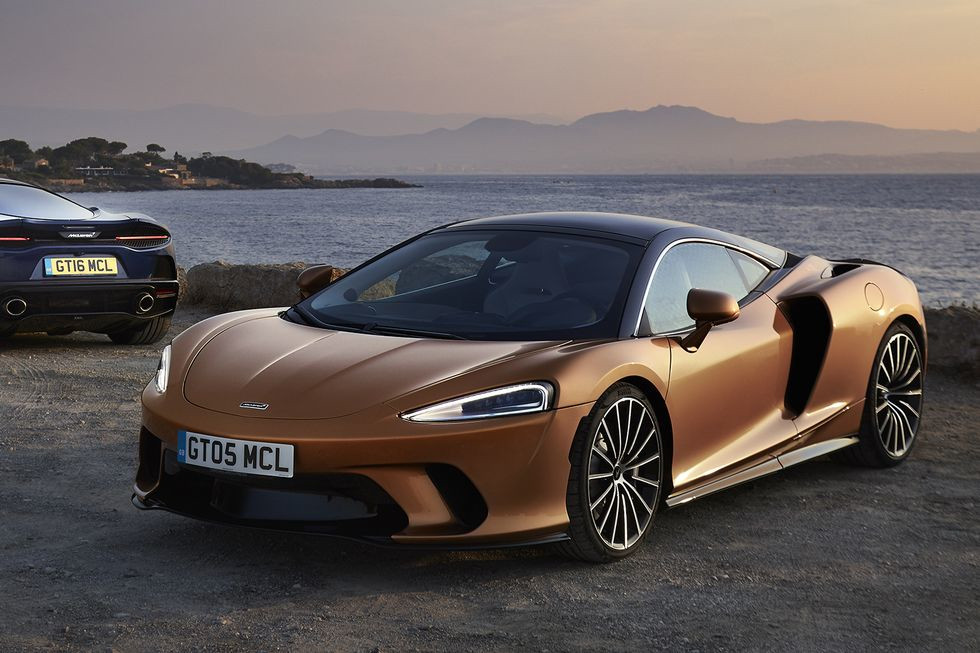car: (125, 210, 930, 562)
